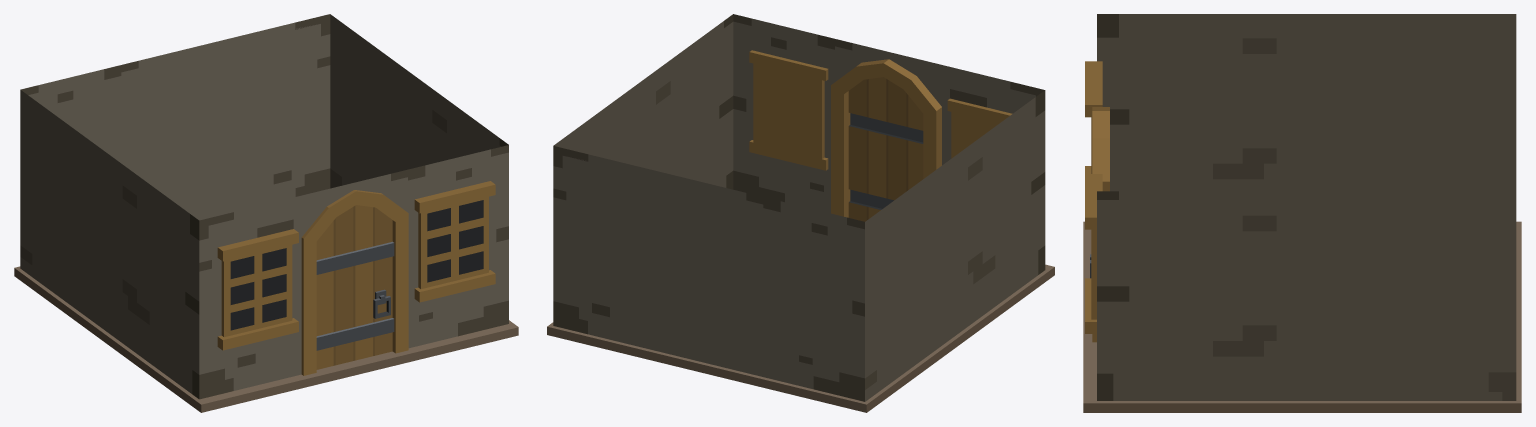
File: SF_Bld_HouseAdd_Base_01.fbx
The picture shows the model from 3 angles, left to right: view 1: azimuth 30°, elevation 25°; view 2: azimuth 150°, elevation 25°; view 3: azimuth 270°, elevation 25°; orthographic projection. The views are drawn at different scales.
Parts seen in each view (by area): view 1: SF_Bld_HouseAdd_Base_01; view 2: SF_Bld_HouseAdd_Base_01; view 3: SF_Bld_HouseAdd_Base_01.
Part boxes in pixels (box(x1,y1,x2,y2)): SF_Bld_HouseAdd_Base_01: box(14, 14, 518, 412); SF_Bld_HouseAdd_Base_01: box(547, 14, 1054, 412); SF_Bld_HouseAdd_Base_01: box(1083, 14, 1521, 412).
Bounding box in the file's own units: 8.02 × 4.52 × 8.18.
